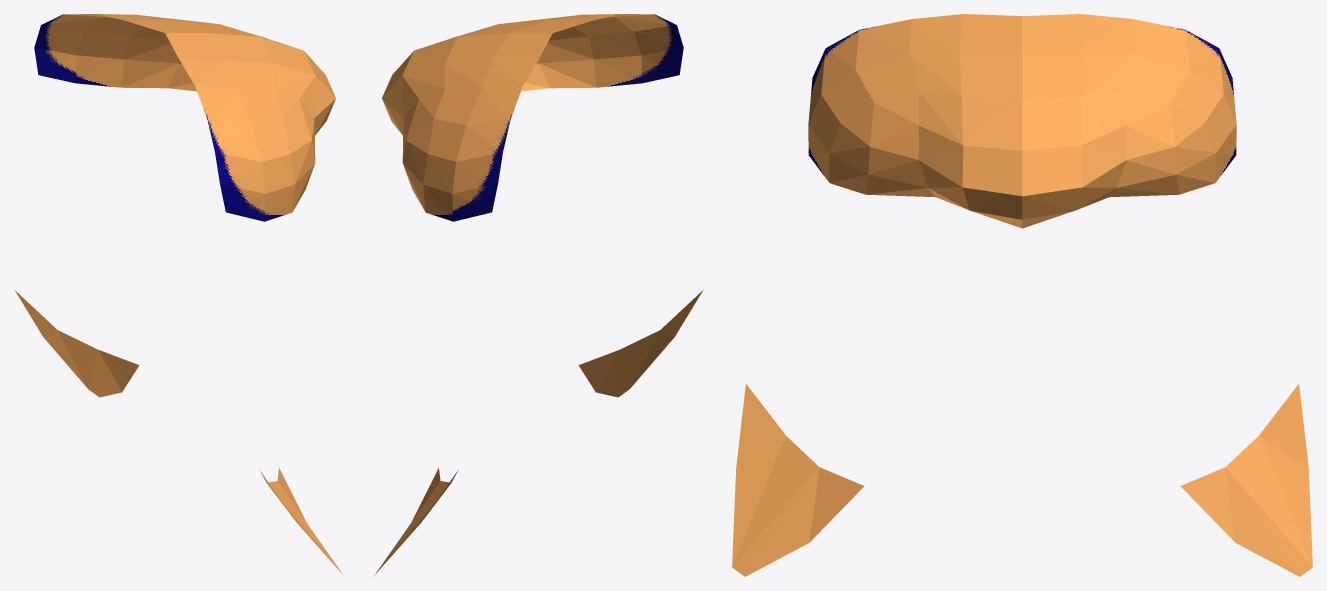
The picture shows the model from 3 angles, left to right: view 1: azimuth 30°, elevation 25°; view 2: azimuth 150°, elevation 25°; view 3: azimuth 270°, elevation 25°; orthographic projection. The views are drawn at different scales.
Parts seen in each view (by area): view 1: mesh_730D1A9A59CCEC98; view 2: mesh_730D1A9A59CCEC98; view 3: mesh_730D1A9A59CCEC98.
Part boxes in pixels (x1,y1,x2,y2): mesh_730D1A9A59CCEC98: [15, 14, 343, 575]; mesh_730D1A9A59CCEC98: [374, 14, 702, 575]; mesh_730D1A9A59CCEC98: [732, 14, 1312, 576].
Size of the model in its own units: 1.45 by 3.26 by 3.24.
